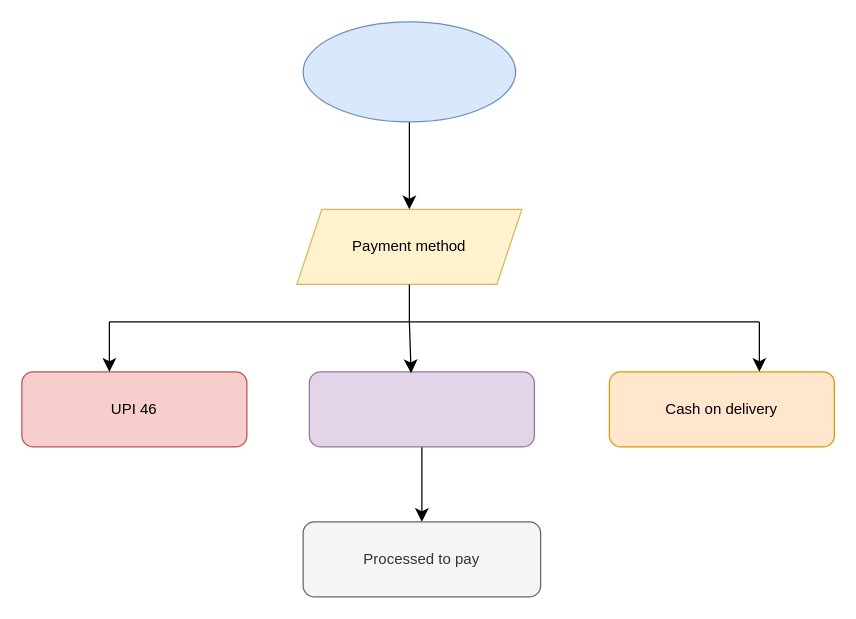
The diagram is 856 pixels wide and 619 high, and some of its shapes have lost their labels. The shapes that lost their labels are listed below. From the top down, each one's box as (x1, y1, x2, y2) in pixels, then its label:
(302, 21, 516, 122): Select payment
(308, 371, 534, 447): Credit card
